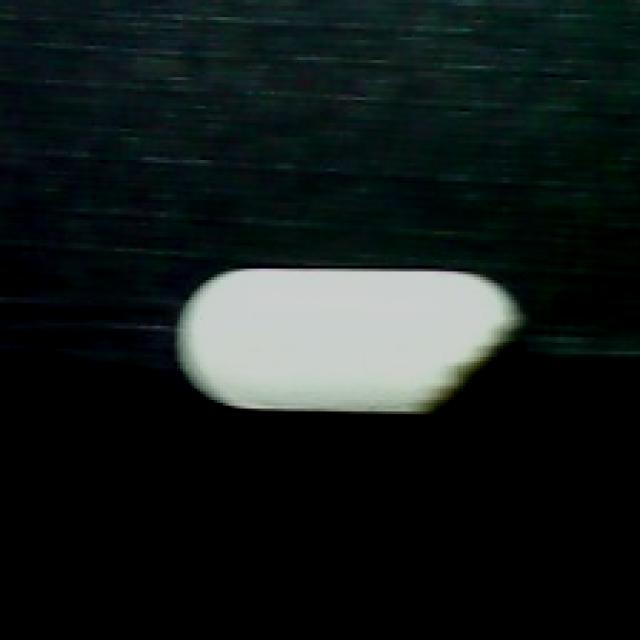defected: (171, 254, 531, 426)
